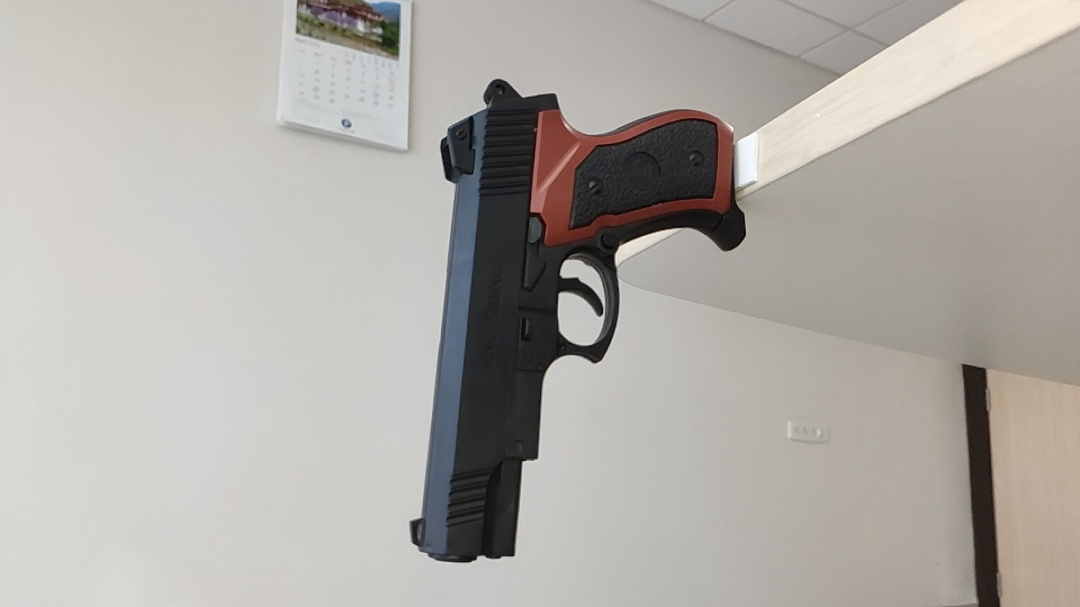gun: (407, 77, 753, 569)
